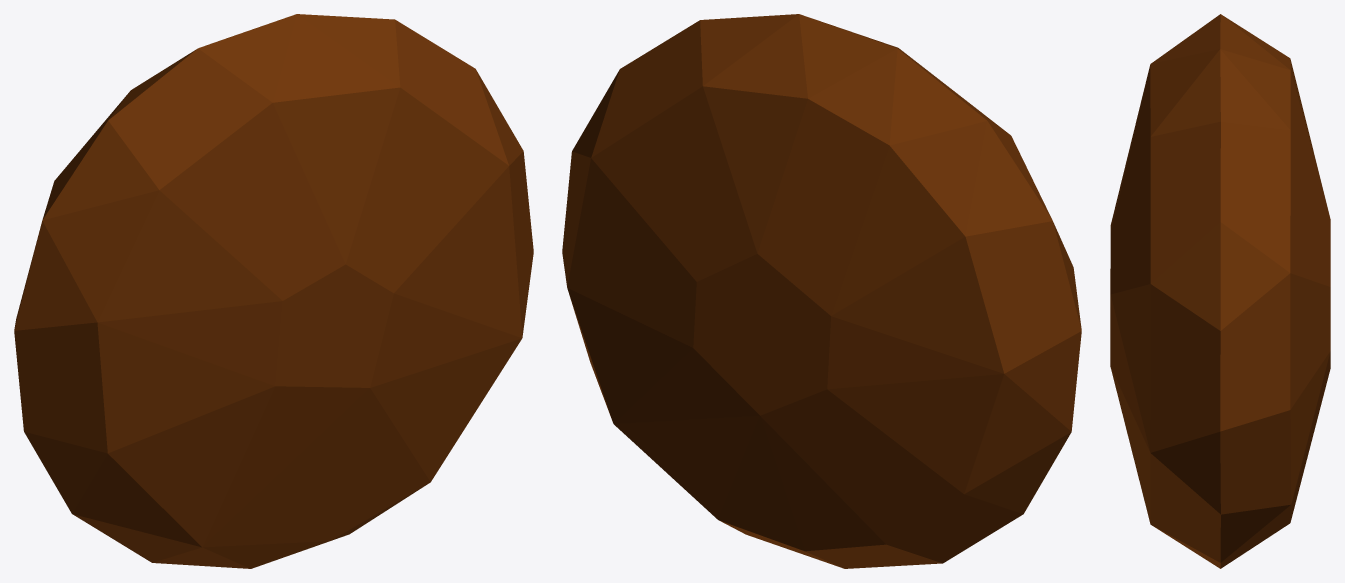
Rendered from bakedAfghanCookies.obj.
The picture shows the model from 3 angles, left to right: view 1: azimuth 30°, elevation 25°; view 2: azimuth 150°, elevation 25°; view 3: azimuth 270°, elevation 25°; orthographic projection. The views are drawn at different scales.
Visible parts, largest first — view 1: Cylinder; view 2: Cylinder; view 3: Cylinder.
Boxes of the visible parts, bbox=[...] form: Cylinder: bbox=[14, 14, 533, 568]; Cylinder: bbox=[562, 14, 1081, 568]; Cylinder: bbox=[1110, 14, 1330, 568].
Size of the model in its own units: 0.0485 by 0.0485 by 0.0192.
